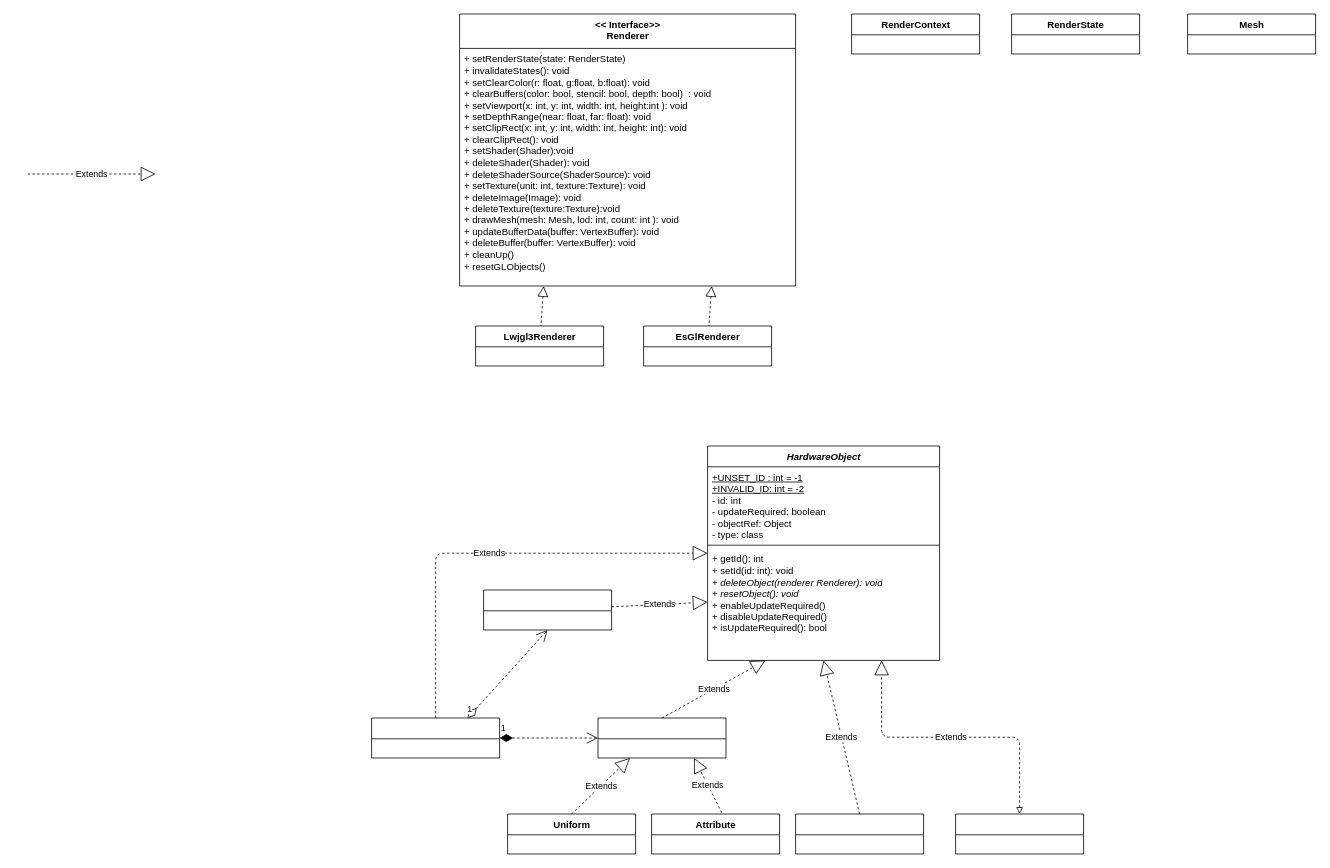
This 1330x868 diagram has some shape labels left out. Here are the shapes that lost their labels. From the top down, the centre of each, then its label:
At (547,609): "ShaderSource".
At (435,737): "Shader".
At (661,737): "ShaderVariable".
At (859,833): "Texture".
At (1019,833): "VertexBuffer".
